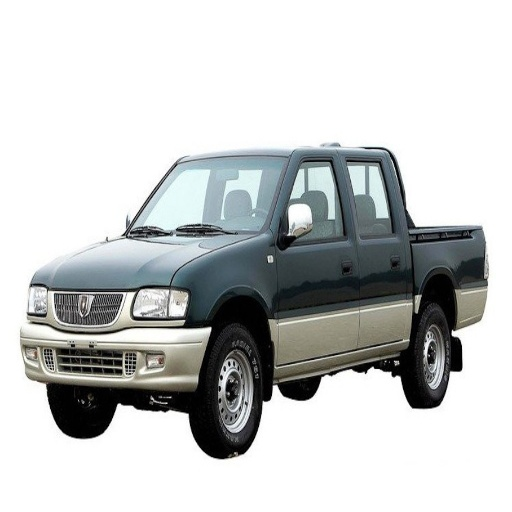front_bumper: (18, 287, 210, 391)
front_glass: (123, 158, 289, 240)
front_left_door: (279, 154, 359, 364)
trunk: (390, 228, 493, 338)
